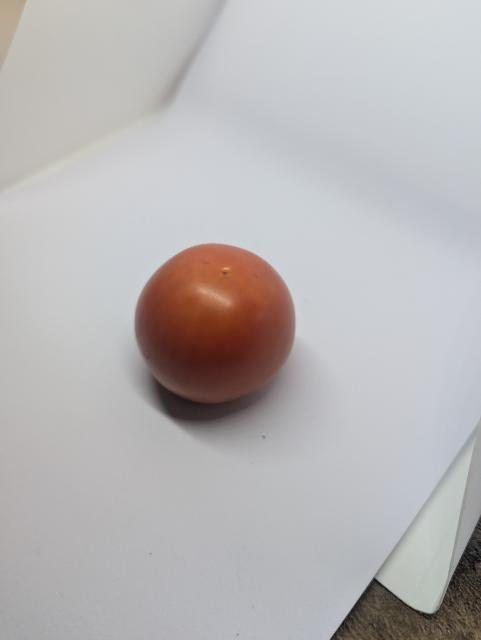red: (131, 231, 307, 429)
